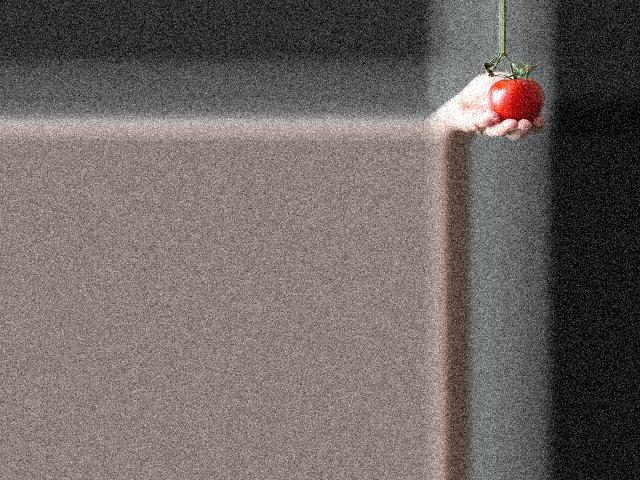tomato: (487, 77, 544, 121)
